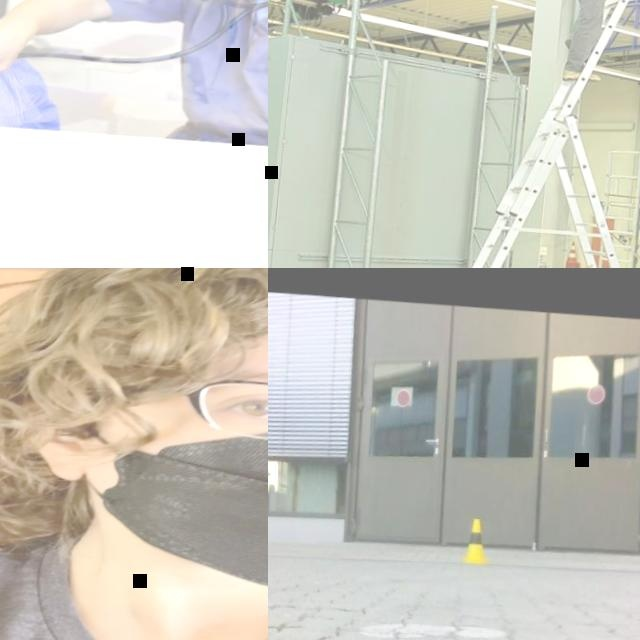Mask: (52, 396, 268, 609)
NO-Hardhat: (23, 268, 268, 379), (78, 29, 172, 58)
NO-Safety Vest: (0, 531, 268, 640)
Person: (0, 268, 268, 640), (0, 0, 268, 152), (557, 0, 640, 88)
Safety Cone: (458, 519, 492, 567)
